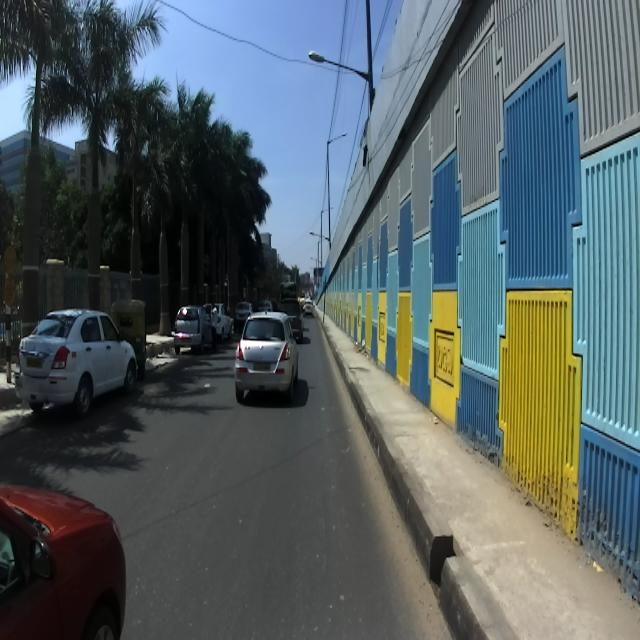car ahead at: (0, 470, 129, 640), (15, 299, 140, 414), (226, 303, 302, 411)
